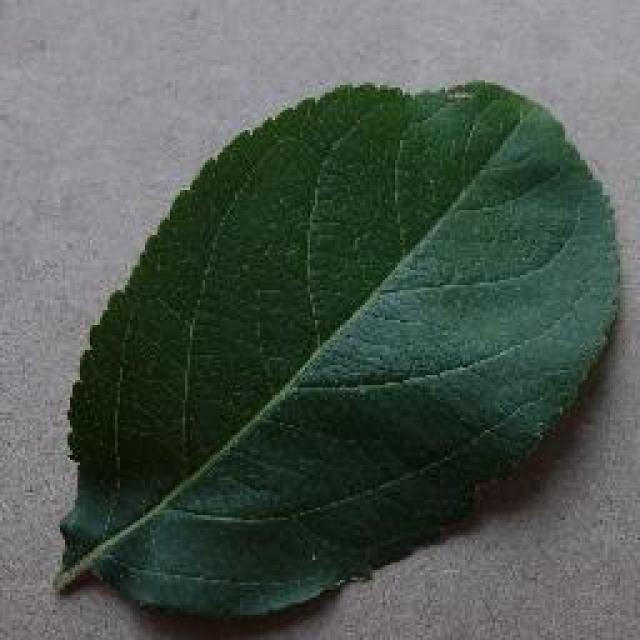apple scab disease: (50, 75, 622, 623)
